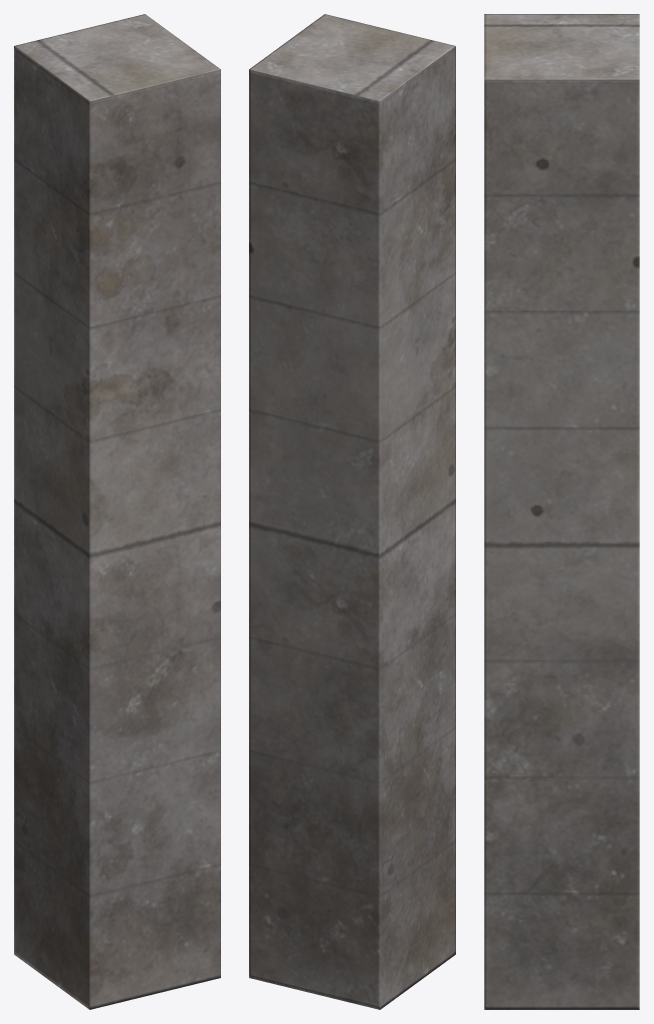
File: Con_ConcreteColumn.fbx
3 views of the same model, side by side, from view 1: azimuth 30°, elevation 25°; view 2: azimuth 150°, elevation 25°; view 3: azimuth 270°, elevation 25° (orthographic). The views are drawn at different scales.
Visible parts, largest first — view 1: SM_ConcreteColumn01; view 2: SM_ConcreteColumn01; view 3: SM_ConcreteColumn01.
Boxes of the visible parts, x1,y1,x2,y2 form: SM_ConcreteColumn01: [14, 14, 220, 1009]; SM_ConcreteColumn01: [249, 14, 455, 1009]; SM_ConcreteColumn01: [484, 14, 639, 1009].
Bounding box in the file's own units: 0.6047 × 4 × 0.6047.
Materials: 1 (1 with a texture image).
